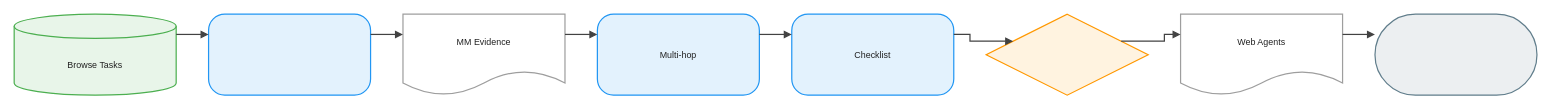
Some shapes in this 1552 by 110 pixel diagram are drawn without their labels. Here are the shapes that lost their labels. From the top down, the box of each, then its label:
(208, 13, 371, 95): 224 Questions
(985, 13, 1148, 95): Encrypted Data
(1374, 13, 1537, 95): Accuracy
